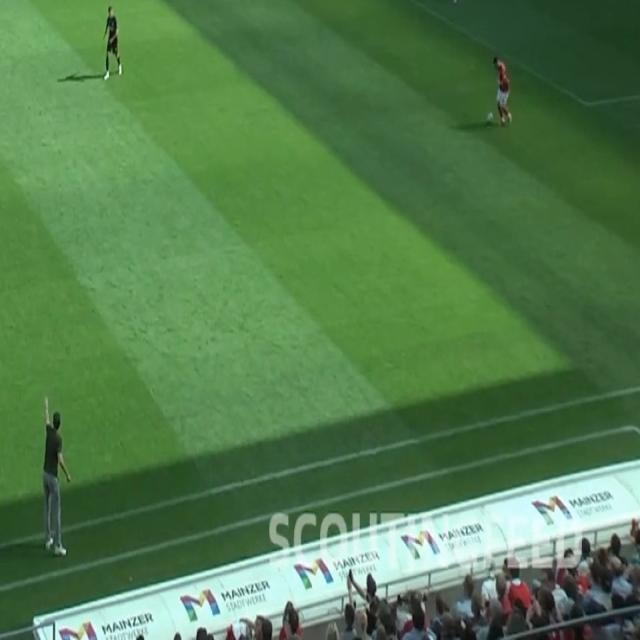ball: (486, 110, 493, 124)
